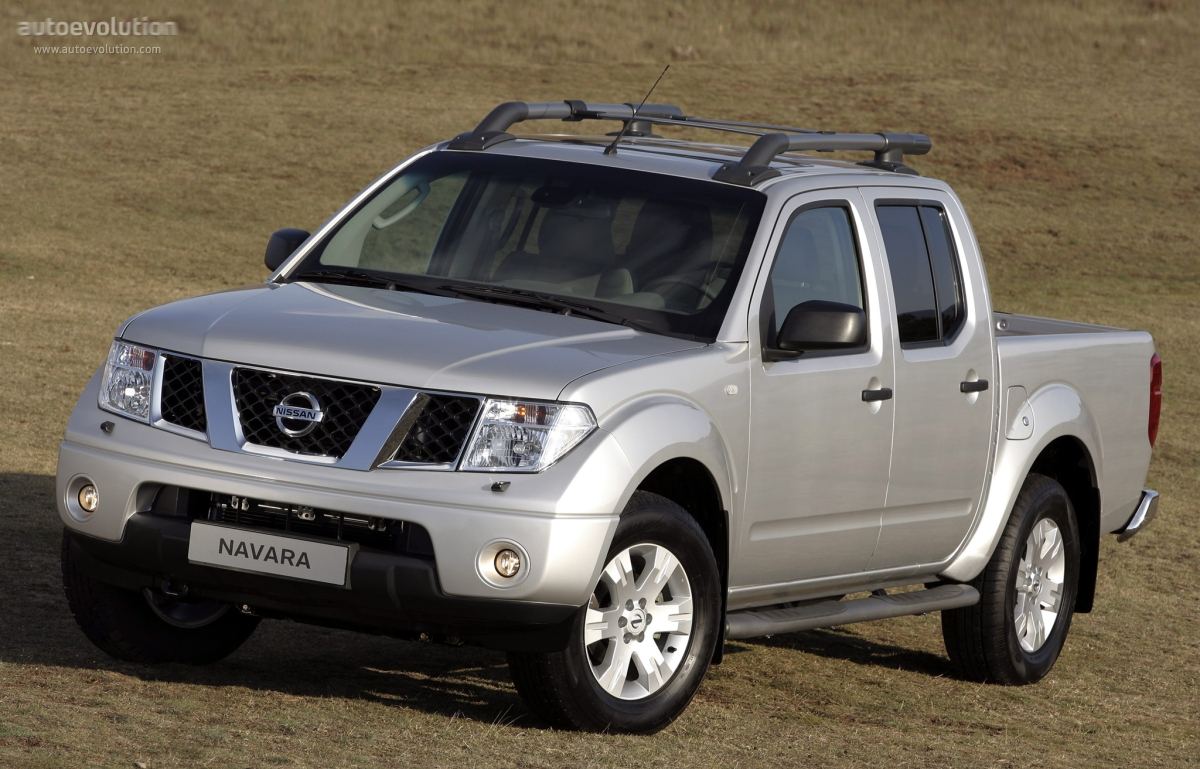pickup: (54, 125, 1162, 737)
